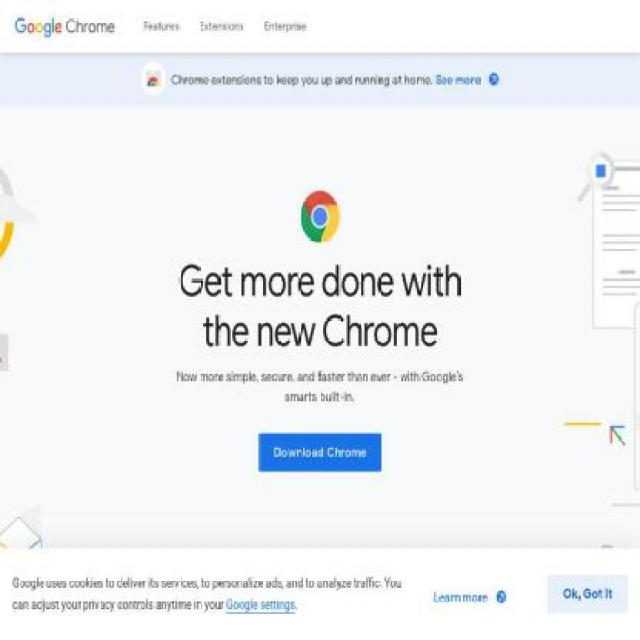button: (258, 433, 382, 472), (548, 575, 628, 613), (15, 16, 114, 38), (433, 587, 507, 607), (227, 596, 296, 613), (435, 71, 500, 89), (115, 24, 128, 41)
